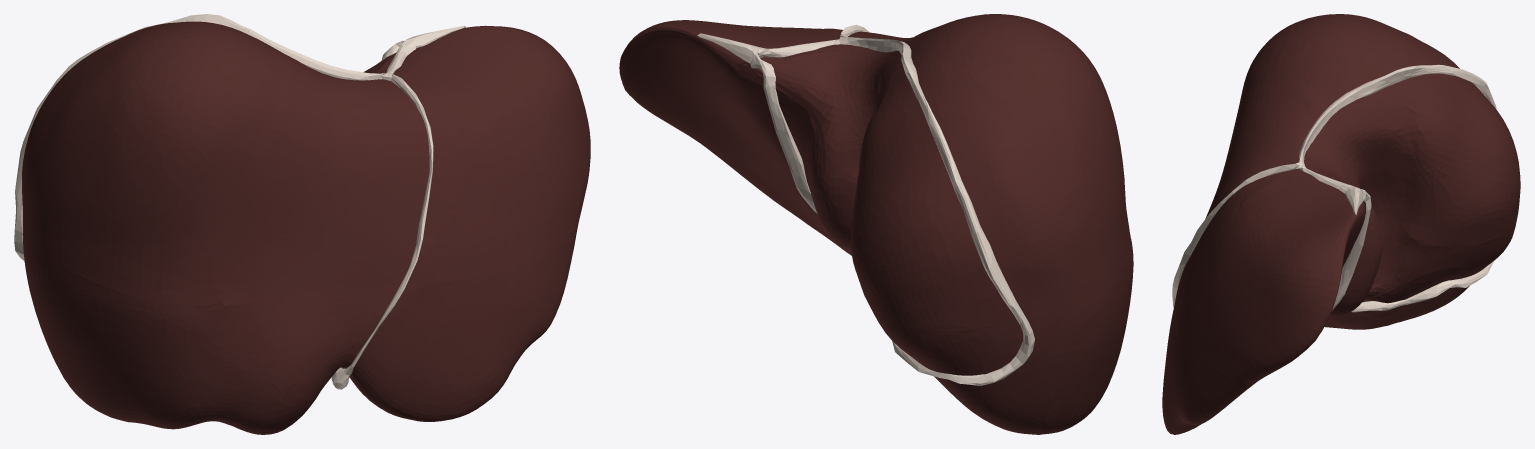
File: VH_F_Liver_0.4.glb
3 renders of one model, left to right at view 1: azimuth 30°, elevation 25°; view 2: azimuth 150°, elevation 25°; view 3: azimuth 270°, elevation 25°, orthographic. The views are drawn at different scales.
Visible parts, largest first — view 1: VH_F_capsule_of_the_liver, VH_F_left_superomedial_segment1, VH_F_right_anterosuperior_segment, VH_F_left_inferomedial_segment, VH_F_right_anteroinferior_segment, VH_F_left_superomedial_segment, VH_F_coronary_ligament_of_liver, VH_F_falciform_ligament, VH_F_left_anterolateral_segment; view 2: VH_F_capsule_of_the_liver, VH_F_bare_area_of_liver, VH_F_left_superomedial_segment, VH_F_right_posterosuperior_segment, VH_F_diaphragmatic_surface_of_liver, VH_F_coronary_ligament_of_liver, VH_F_caudate_lobe, VH_F_ligamentum_venosum, VH_F_gastric_impression_of_liver, VH_F_right_anterosuperior_segment, VH_F_right_posteroinferior_segment, VH_F_left_anterolateral_segment (+2 smaller); view 3: VH_F_capsule_of_the_liver, VH_F_bare_area_of_liver, VH_F_caudate_lobe, VH_F_coronary_ligament_of_liver, VH_F_right_posterosuperior_segment, VH_F_left_superomedial_segment1, VH_F_diaphragmatic_surface_of_liver, VH_F_left_superomedial_segment, VH_F_falciform_ligament, VH_F_ligamentum_venosum, VH_F_right_posteroinferior_segment, VH_F_suprarenal_impression_of_liver (+4 smaller).
Part boxes in pixels (left/top/right/bottom): VH_F_capsule_of_the_liver: left=22, top=21, right=590, bottom=434; VH_F_left_superomedial_segment1: left=222, top=55, right=433, bottom=305; VH_F_right_anterosuperior_segment: left=38, top=22, right=277, bottom=305; VH_F_left_inferomedial_segment: left=209, top=284, right=398, bottom=433; VH_F_right_anteroinferior_segment: left=38, top=248, right=223, bottom=426; VH_F_left_superomedial_segment: left=380, top=29, right=588, bottom=284; VH_F_coronary_ligament_of_liver: left=14, top=14, right=413, bottom=261; VH_F_falciform_ligament: left=344, top=73, right=433, bottom=375; VH_F_left_anterolateral_segment: left=342, top=226, right=577, bottom=419; VH_F_capsule_of_the_liver: left=619, top=14, right=1133, bottom=434; VH_F_bare_area_of_liver: left=749, top=47, right=1023, bottom=375; VH_F_left_superomedial_segment: left=622, top=22, right=840, bottom=179; VH_F_right_posterosuperior_segment: left=851, top=61, right=1101, bottom=331; VH_F_diaphragmatic_surface_of_liver: left=619, top=30, right=996, bottom=425; VH_F_coronary_ligament_of_liver: left=767, top=36, right=1034, bottom=385; VH_F_caudate_lobe: left=779, top=47, right=899, bottom=250; VH_F_ligamentum_venosum: left=750, top=53, right=817, bottom=213; VH_F_gastric_impression_of_liver: left=668, top=76, right=851, bottom=255; VH_F_right_anterosuperior_segment: left=897, top=14, right=1132, bottom=282; VH_F_right_posteroinferior_segment: left=866, top=283, right=1101, bottom=433; VH_F_left_anterolateral_segment: left=716, top=151, right=846, bottom=249; VH_F_capsule_of_the_liver: left=1162, top=14, right=1471, bottom=434; VH_F_bare_area_of_liver: left=1306, top=74, right=1520, bottom=300; VH_F_caudate_lobe: left=1305, top=98, right=1439, bottom=315; VH_F_coronary_ligament_of_liver: left=1298, top=64, right=1496, bottom=312; VH_F_right_posterosuperior_segment: left=1393, top=31, right=1519, bottom=245; VH_F_left_superomedial_segment1: left=1198, top=64, right=1323, bottom=241; VH_F_diaphragmatic_surface_of_liver: left=1170, top=202, right=1494, bottom=433; VH_F_left_superomedial_segment: left=1176, top=172, right=1365, bottom=382; VH_F_falciform_ligament: left=1172, top=162, right=1298, bottom=307; VH_F_ligamentum_venosum: left=1331, top=189, right=1371, bottom=311; VH_F_right_posteroinferior_segment: left=1386, top=226, right=1513, bottom=325; VH_F_suprarenal_impression_of_liver: left=1398, top=267, right=1471, bottom=289.
Bounding box in the file's own units: 0.2471 × 0.17 × 0.1663.
